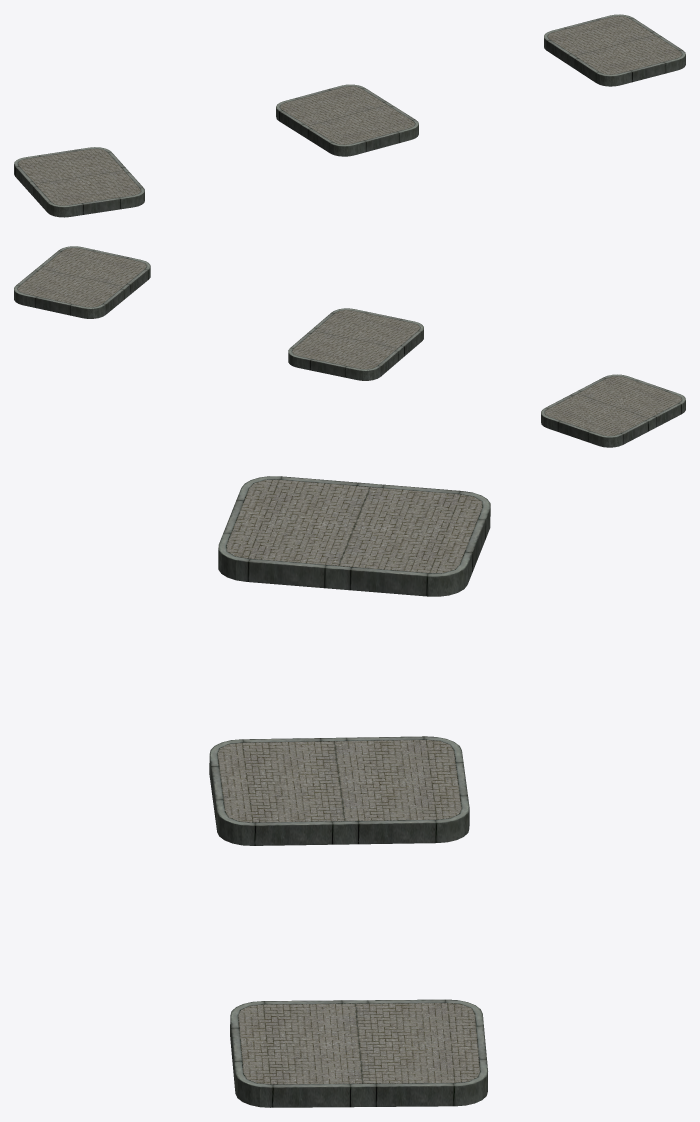
File: Path_Ends_Entrance_COMBO.fbx
3 renders of one model, top to bottom at view 1: azimuth 30°, elevation 25°; view 2: azimuth 150°, elevation 25°; view 3: azimuth 270°, elevation 25°, orthographic. The views are drawn at different scales.
Visible parts, largest first — view 1: VP_park_pavement_block; view 2: VP_park_pavement_block; view 3: VP_park_pavement_block.
Boxes of the visible parts, x1,y1,x2,y2 form: VP_park_pavement_block: [14, 14, 685, 217]; VP_park_pavement_block: [14, 246, 685, 447]; VP_park_pavement_block: [209, 476, 490, 1107].
Size of the model in its own units: 19.16 by 0.3362 by 3.73.
